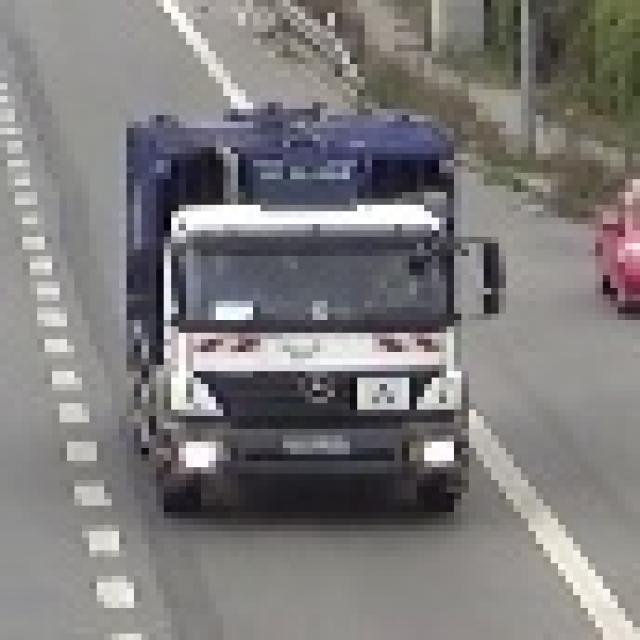truck: (111, 102, 506, 500)
